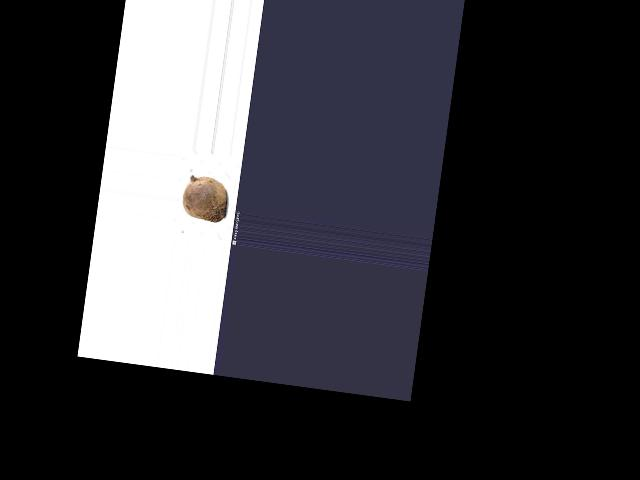beet: (180, 173, 230, 223)
